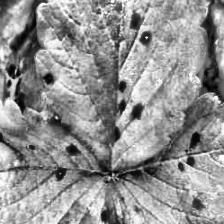Leaf Spot: (32, 0, 207, 172), (0, 95, 124, 224), (110, 90, 224, 223), (0, 0, 49, 42)
